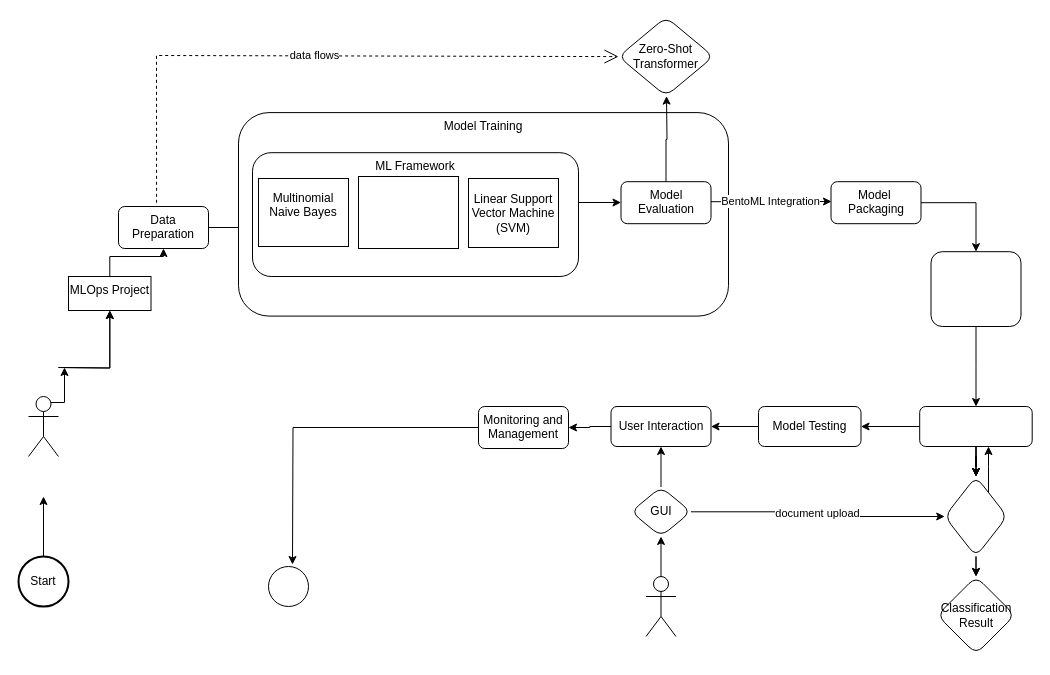
Some shapes in this 1050 by 675 pixel diagram are drawn without their labels. Here are the shapes that lost their labels. From the top down, the box of each, then its label:
(358, 176, 458, 248): Logistic Regression
(930, 251, 1021, 326): BentoML Configuration for Data Sterilization
(28, 396, 58, 456): dev
(919, 406, 1032, 446): Model Serving
(944, 476, 1007, 556): API Endpoint
(268, 566, 308, 606): End
(645, 576, 676, 636): User
